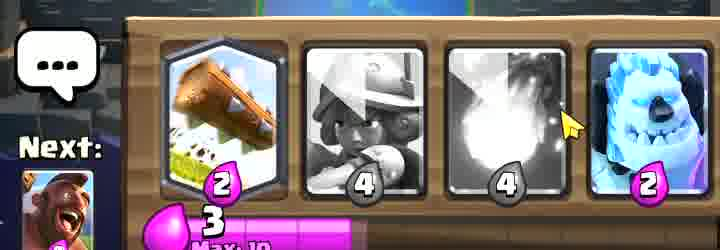hog-rider: (24, 171, 92, 250)
log: (167, 43, 280, 189)
